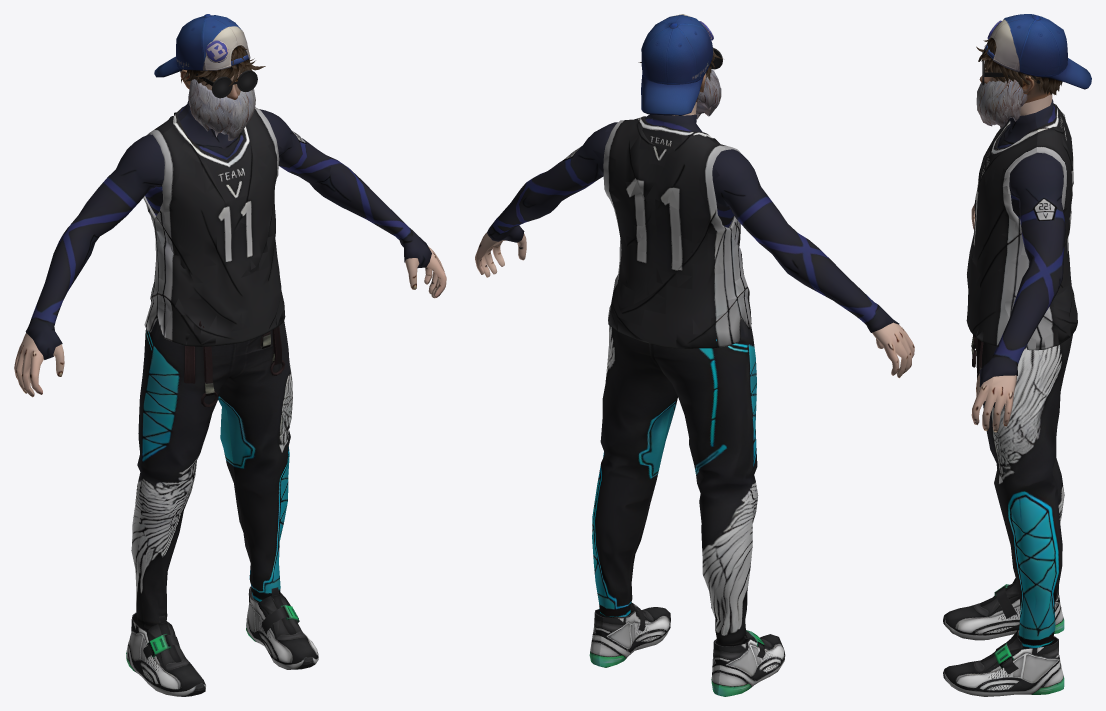
File: le chris.glb
3 renders of one model, left to right at view 1: azimuth 30°, elevation 25°; view 2: azimuth 150°, elevation 25°; view 3: azimuth 270°, elevation 25°, orthographic.
Visible parts, largest first — view 1: le chris; view 2: le chris; view 3: le chris.
Boxes of the visible parts, x1=… form: le chris: x1=14, y1=14, x2=446, y2=696; le chris: x1=475, y1=14, x2=914, y2=696; le chris: x1=943, y1=14, x2=1091, y2=696.
Size of the model in its own units: 0.6312 by 0.9162 by 0.1916.
7 materials, 7 textured.
